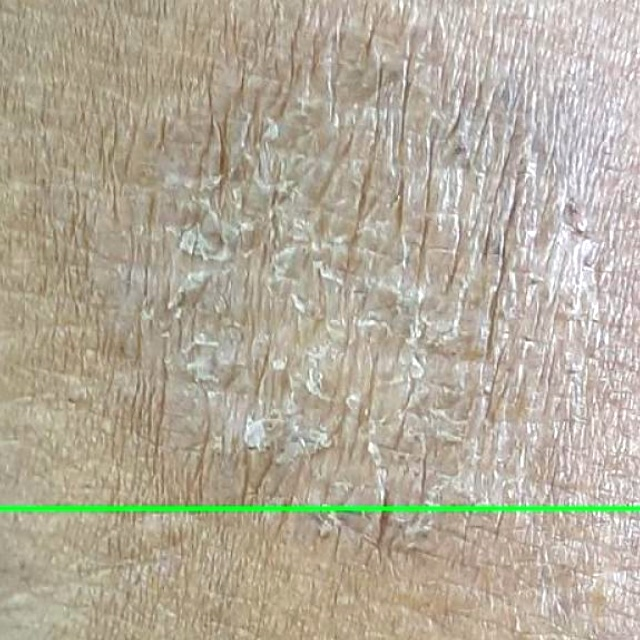Tinea Corporis: (0, 508, 639, 639)
